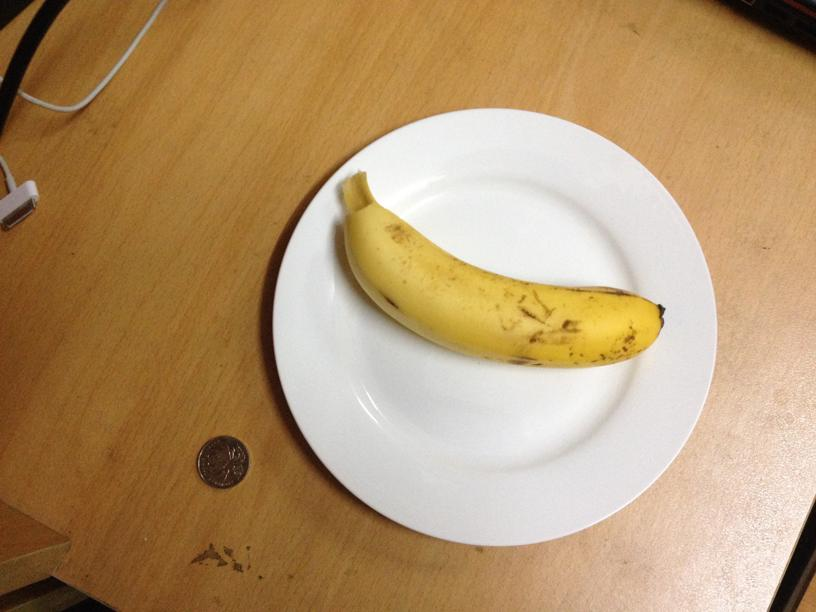banana: (339, 184, 666, 369)
coin: (194, 434, 249, 487)
